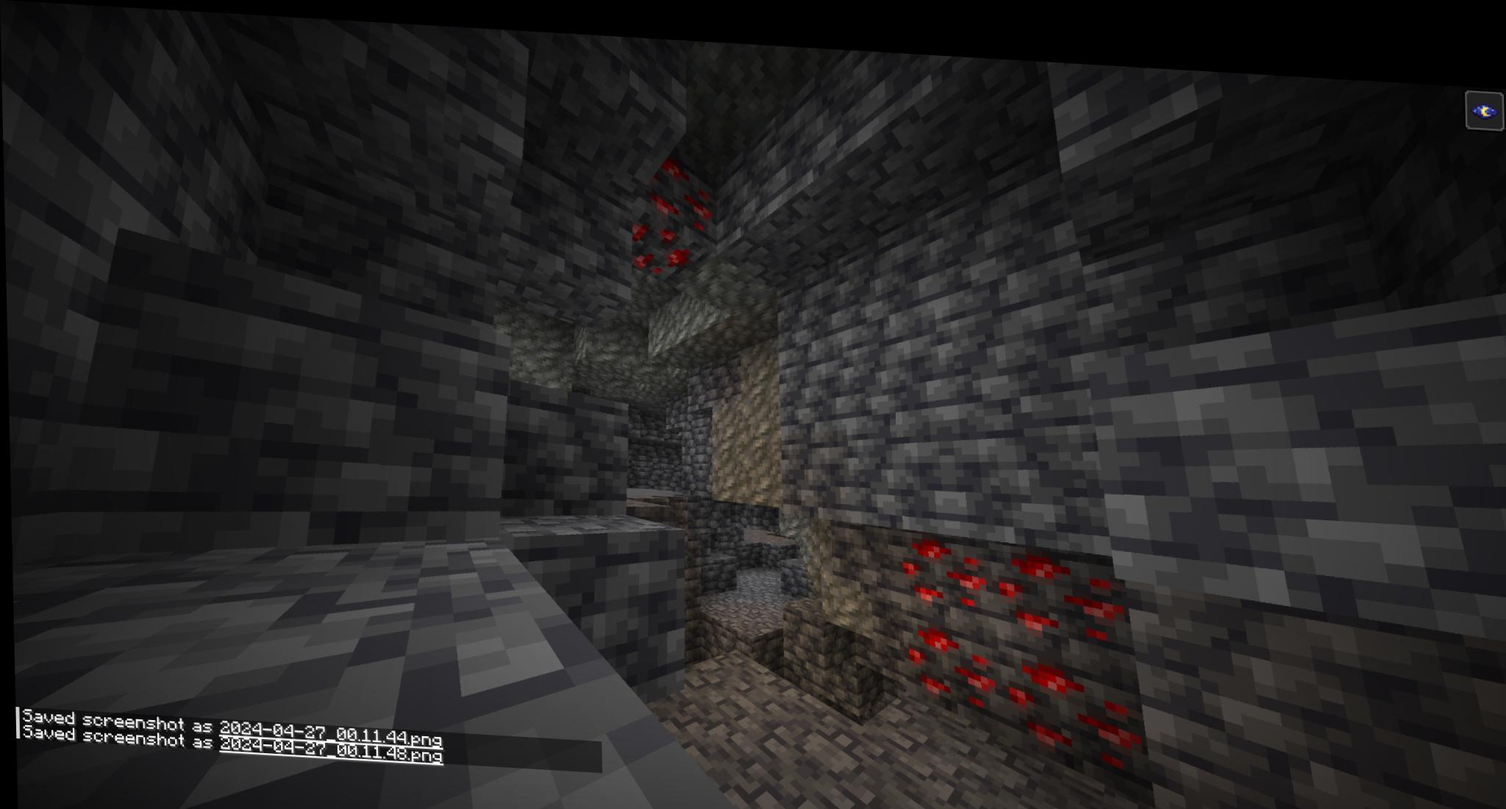redstone ore: (998, 642, 1144, 754), (980, 534, 1125, 643), (889, 609, 1005, 707), (626, 152, 716, 274), (892, 518, 990, 611)
